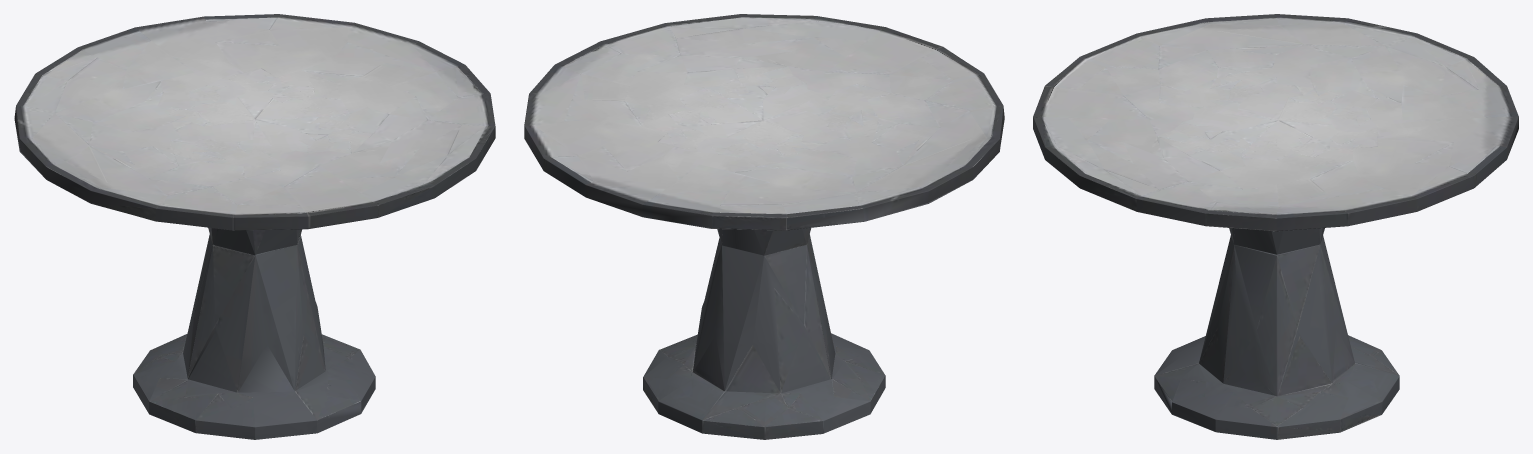
Rendered from meeting-table.glb.
3 renders of one model, left to right at view 1: azimuth 30°, elevation 25°; view 2: azimuth 150°, elevation 25°; view 3: azimuth 270°, elevation 25°, orthographic.
Size of the model in its own units: 0.9497 by 0.5923 by 0.9536.
Materials: 1 (1 with a texture image).
